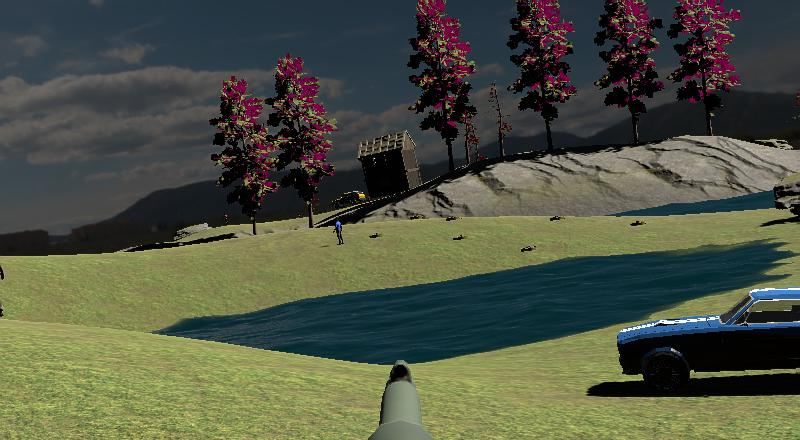Human: (331, 216, 346, 248)
car: (613, 282, 800, 397)
